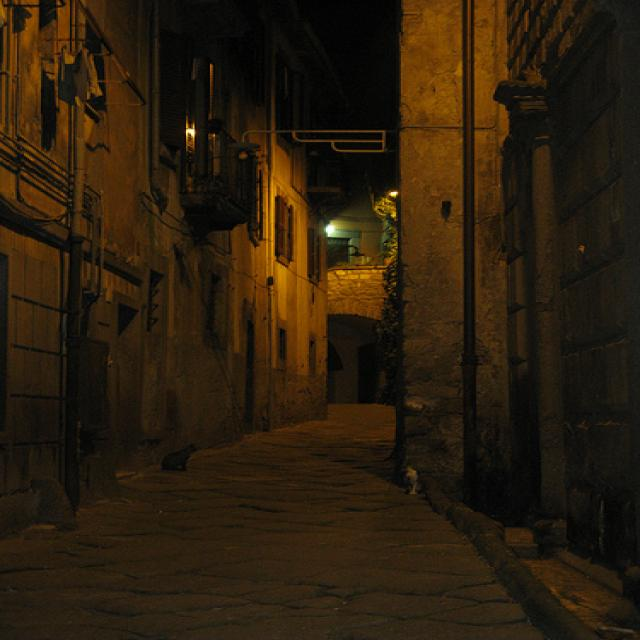Cat: (135, 431, 226, 494)
